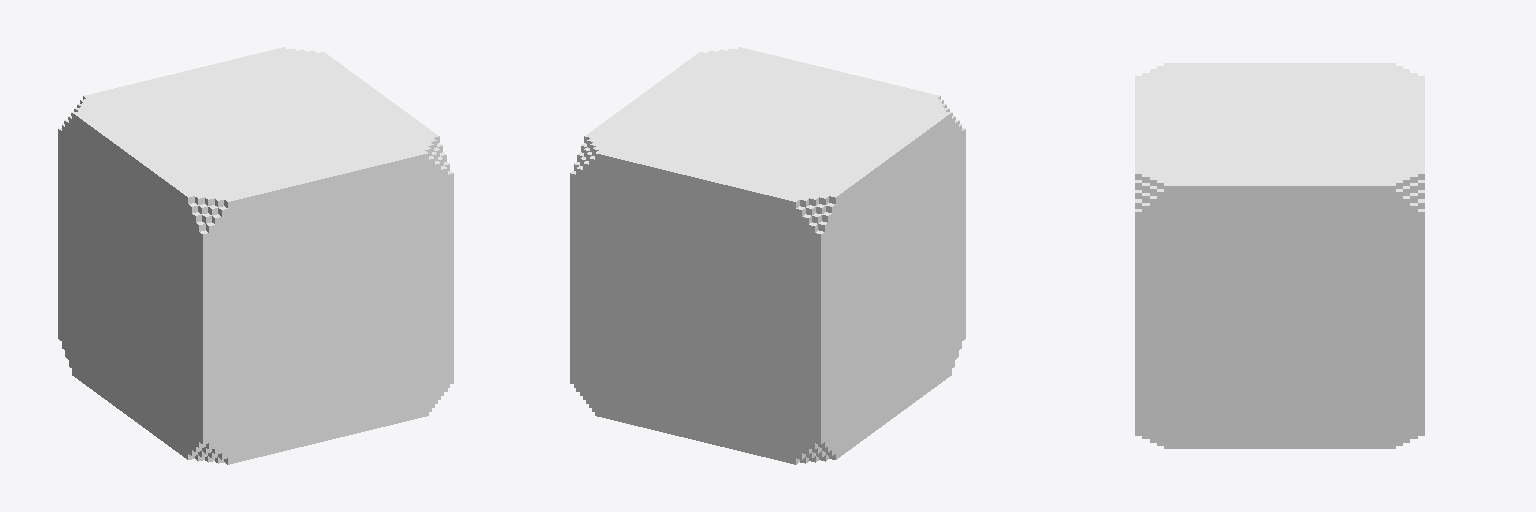
The model's file is StoneCube.obj.
The picture shows the model from 3 angles: view 1: azimuth 30°, elevation 25°; view 2: azimuth 150°, elevation 25°; view 3: azimuth 270°, elevation 25°; orthographic projection.
Parts seen in each view (by area): view 1: object 1; view 2: object 1; view 3: object 1.
Boxes of the visible parts, x1,y1,x2,y2 form: object 1: [58, 47, 453, 464]; object 1: [570, 47, 965, 464]; object 1: [1135, 63, 1424, 448].
Bounding box in the file's own units: 4 × 4 × 4.